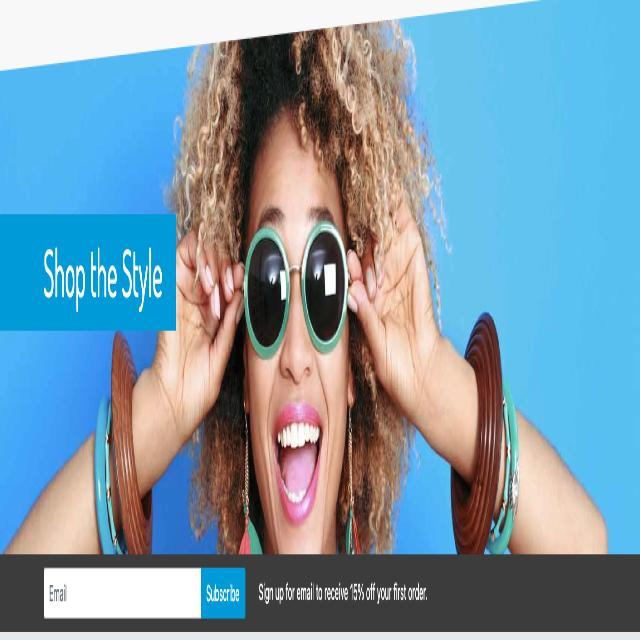FooterFullWidthBanner: (0, 15, 639, 551)
